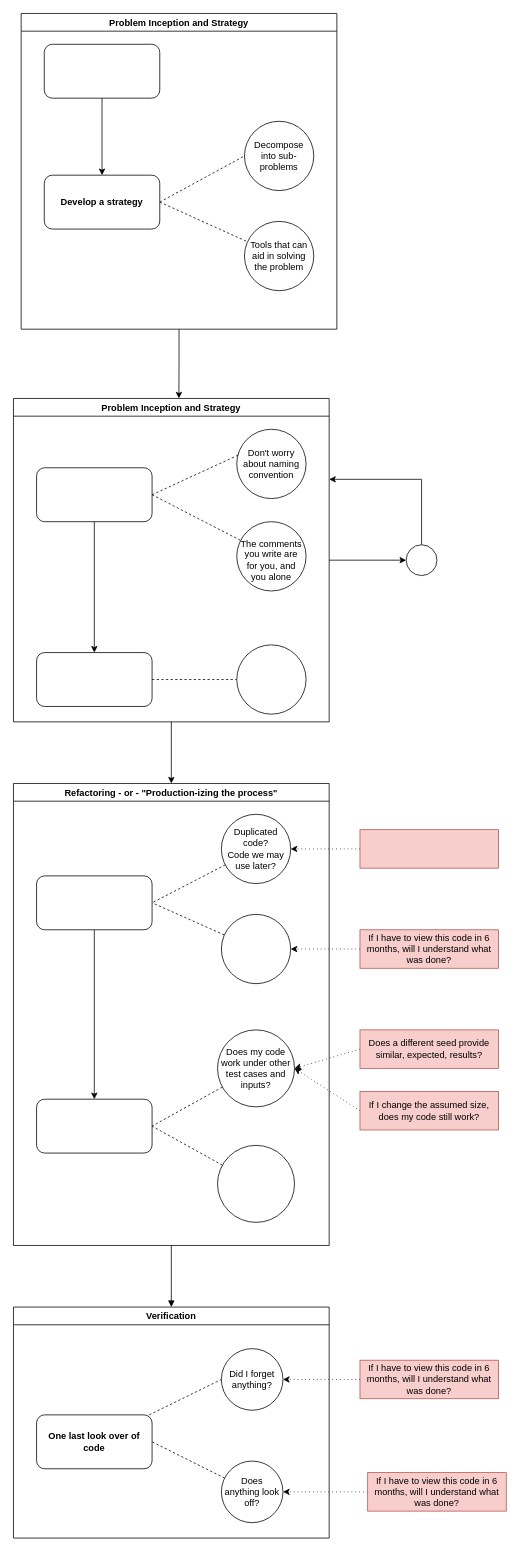
Some shapes in this 520 by 1552 pixel diagram are drawn without their labels. The centre of each missing label's shape, as x and y in pixels:
"Base Development" goes at pixel 94 494.
"Define the problem (What's being asked of you)" goes at pixel 102 71.
"FUNCTIONS AND MODULES" goes at pixel 429 848.
"How do I verify this is really correct?" goes at pixel 256 1183.
"Major Refactoring" goes at pixel 94 902.
"Minor Refactoring" goes at pixel 94 679.
"Renaming, working on consistency" goes at pixel 256 949.
"Reorganize, some renaming, very light" goes at pixel 271 679.
"Testing" goes at pixel 94 1125.
